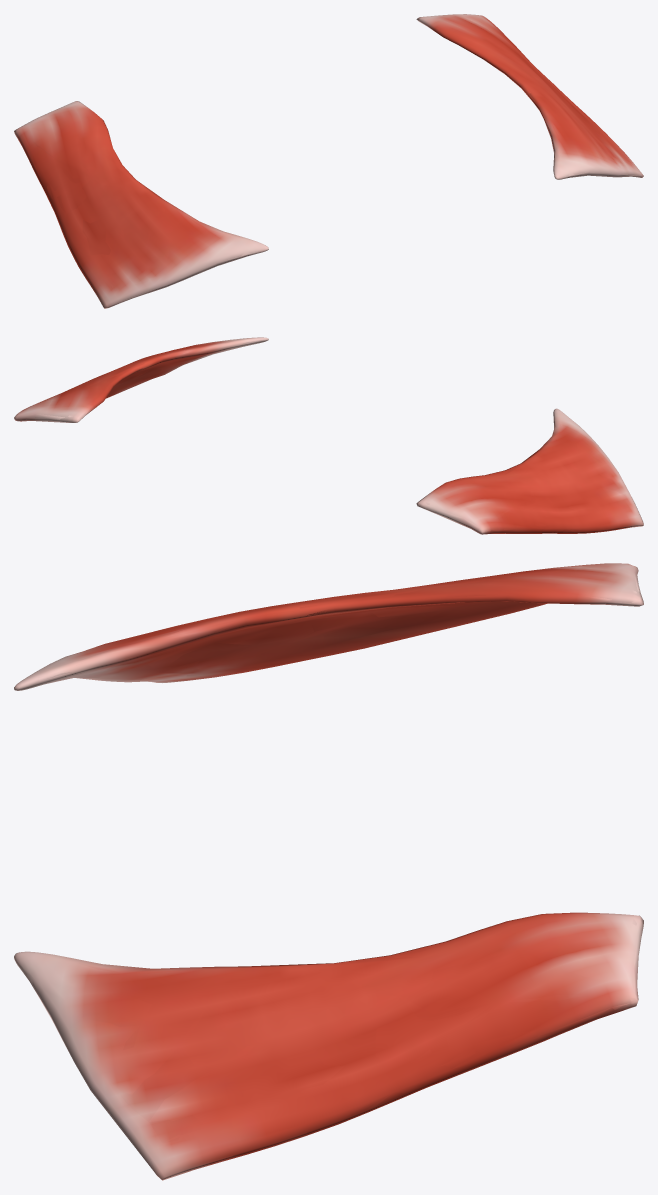
File: Iliocostalis lumborum.fbx
3 views of the same model, one above another, from view 1: azimuth 30°, elevation 25°; view 2: azimuth 150°, elevation 25°; view 3: azimuth 270°, elevation 25° (orthographic). The views are drawn at different scales.
Parts seen in each view (by area): view 1: Iliocostalis lumborum, Iliocostalis lumborum low; view 2: Iliocostalis lumborum, Iliocostalis lumborum low; view 3: Iliocostalis lumborum, Iliocostalis lumborum low.
Boxes of the visible parts, box(x1,y1,x2,y2) form: Iliocostalis lumborum: box(14, 14, 643, 308); Iliocostalis lumborum low: box(14, 17, 641, 308); Iliocostalis lumborum: box(14, 337, 643, 534); Iliocostalis lumborum low: box(15, 339, 643, 534); Iliocostalis lumborum: box(14, 563, 643, 1179); Iliocostalis lumborum low: box(14, 563, 640, 1180).
Bounding box in the file's own units: 47.53 × 7.97 × 25.32.
1 material, 1 textured.
